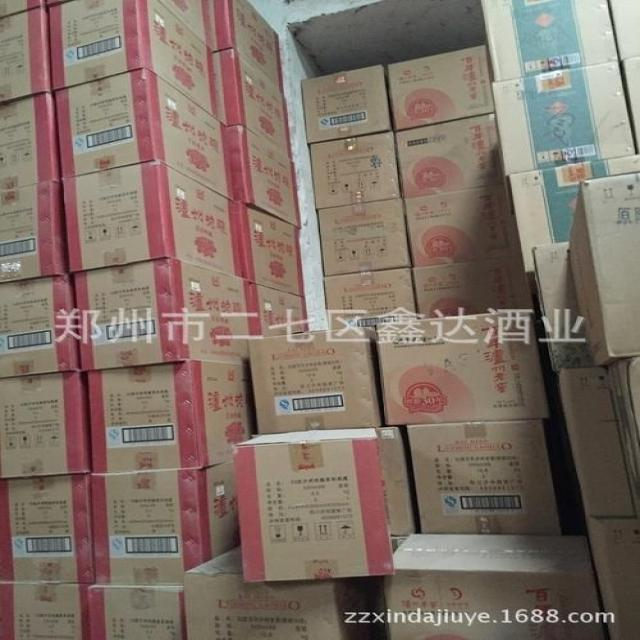box: (378, 533, 609, 640), (233, 428, 394, 581), (52, 69, 236, 200), (559, 356, 640, 640), (60, 161, 246, 280), (44, 0, 220, 120), (68, 258, 251, 370), (374, 310, 552, 425), (84, 359, 257, 473), (91, 460, 242, 587), (407, 419, 561, 536), (183, 546, 370, 640), (493, 60, 637, 176), (508, 153, 640, 273), (247, 327, 381, 434), (570, 172, 640, 367), (479, 0, 620, 84), (0, 473, 95, 583), (402, 184, 524, 268), (0, 370, 91, 479), (393, 113, 504, 199), (385, 45, 493, 131), (210, 48, 292, 160), (223, 122, 301, 229), (532, 241, 596, 367), (1, 274, 74, 378), (412, 257, 532, 320), (316, 197, 412, 275), (306, 131, 401, 208), (205, 0, 283, 93), (0, 180, 69, 283), (302, 65, 393, 143), (237, 201, 305, 297), (1, 90, 58, 189), (325, 268, 419, 327), (1, 582, 96, 640), (87, 585, 186, 640), (374, 426, 416, 551), (609, 0, 640, 153), (0, 8, 49, 104), (246, 280, 310, 336), (157, 1, 209, 48), (0, 0, 44, 18)
